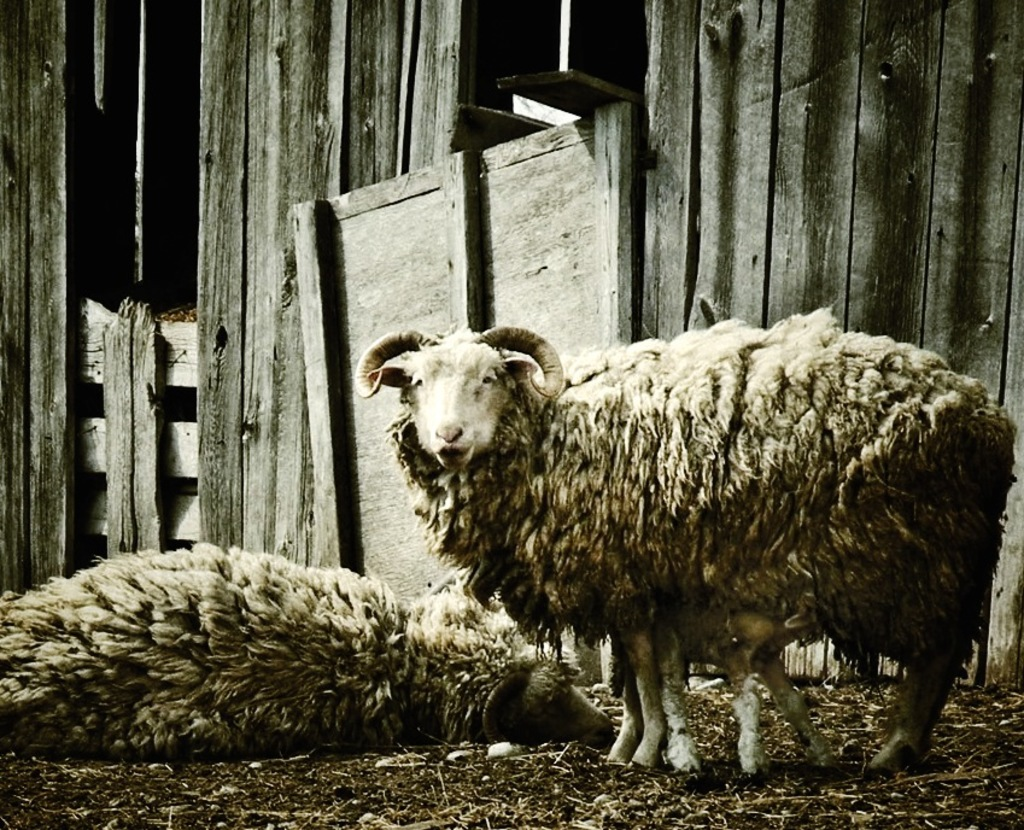sheep: (357, 307, 1014, 778)
